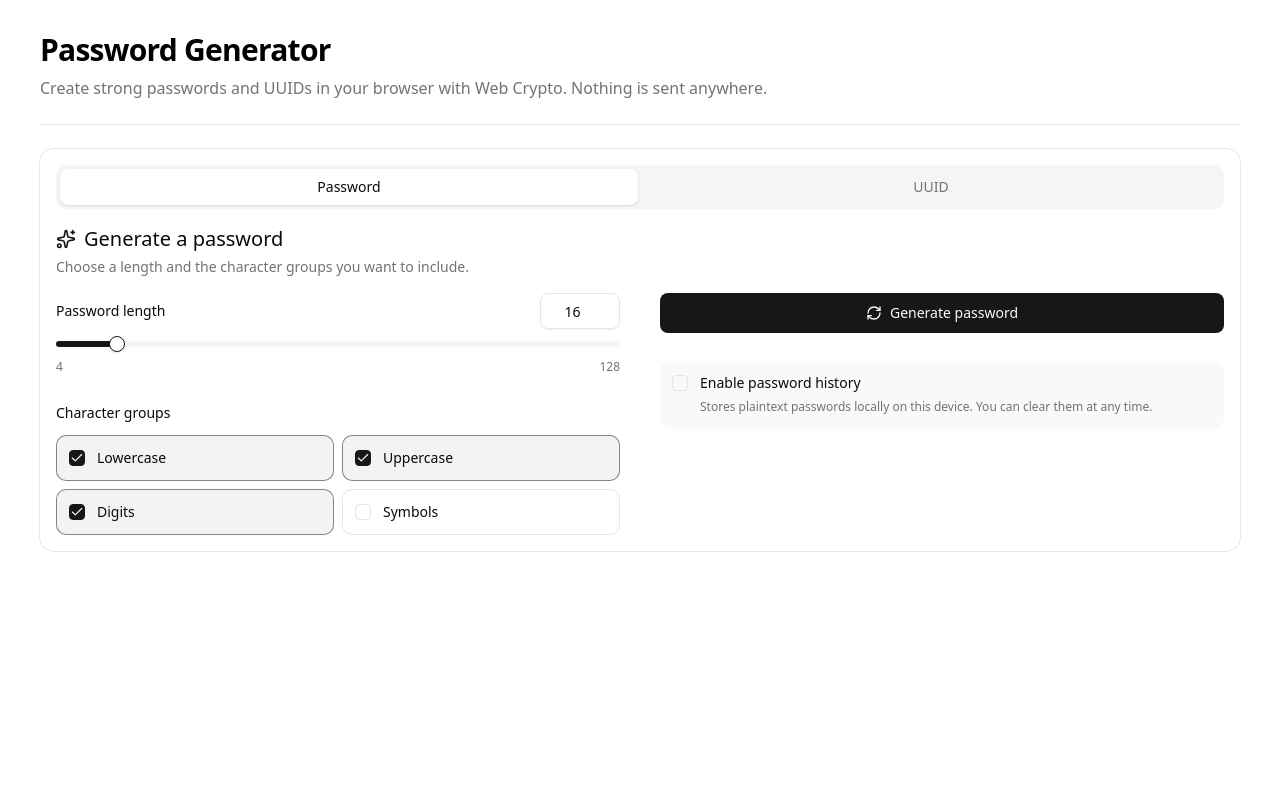
it: PasswordGeneratorScaffold › shows a validation message for an invalid UUID batch quantity
The image size is (1280, 800).
Click the tab "UUID" at (931, 187), box [642,169,1220,205]
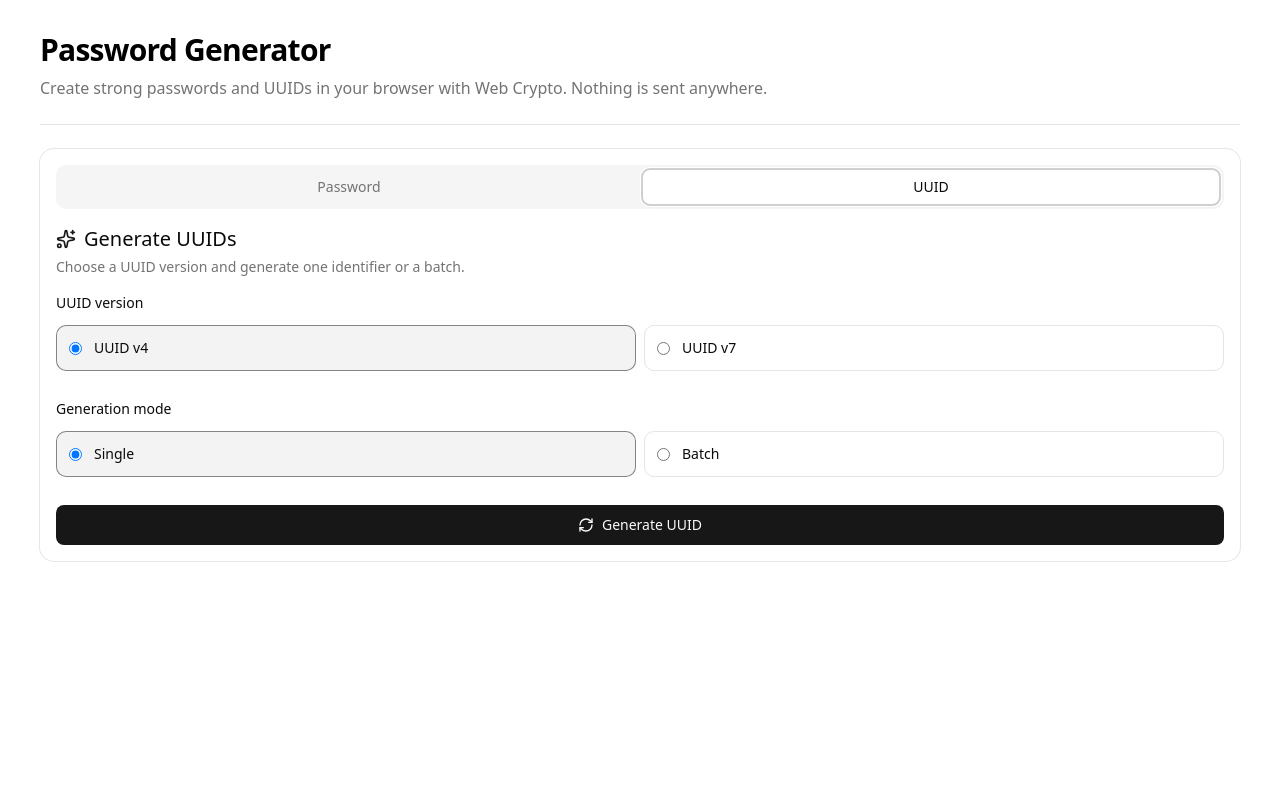
Click the radio button labelled "Batch" at (664, 454), box [657,448,670,460]
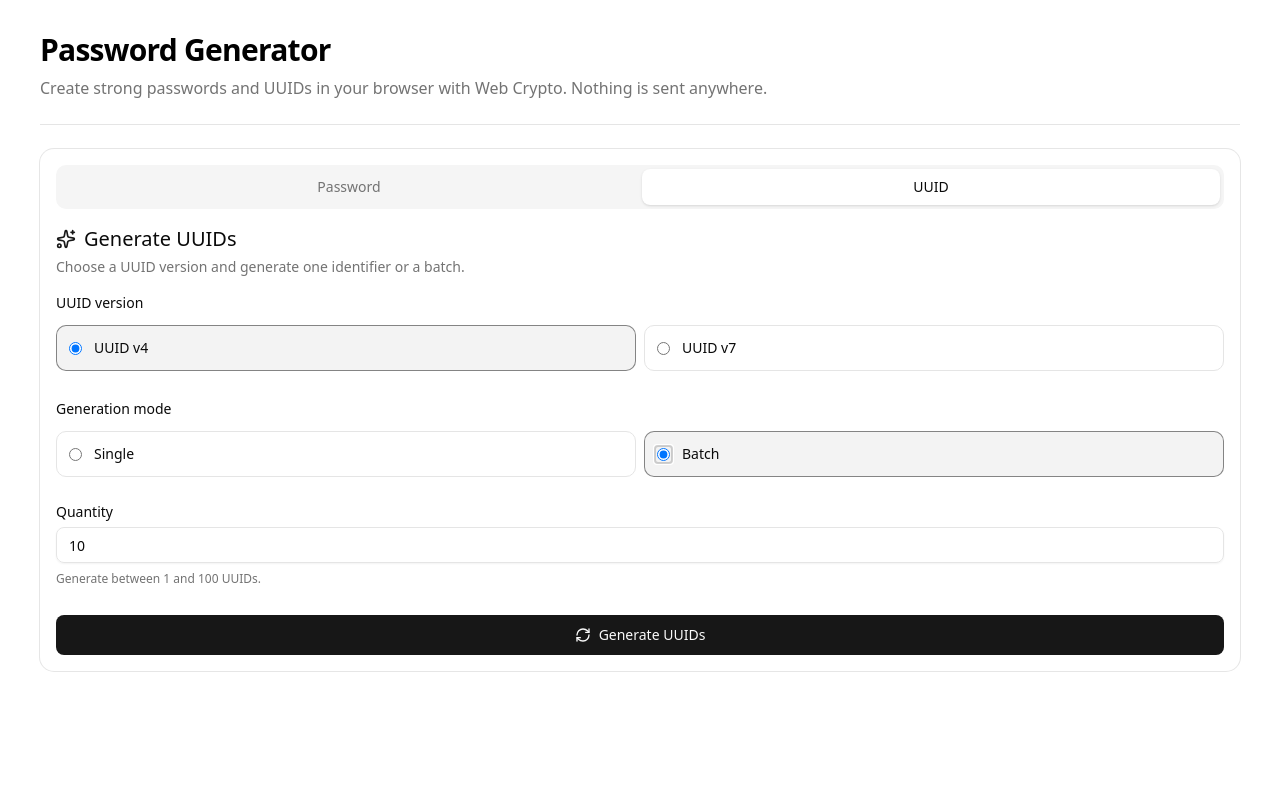
Clear the number field named "UUID quantity" at (640, 545), box [56,527,1224,563]
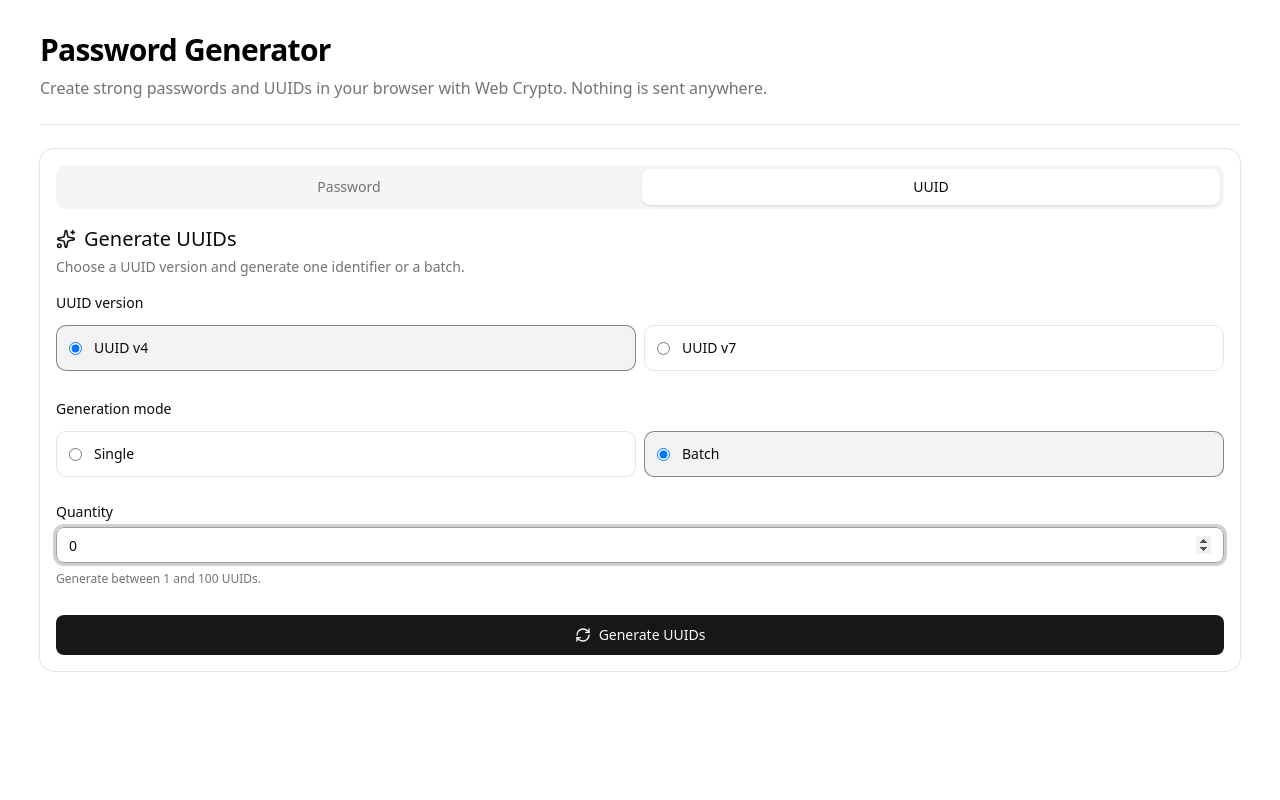
Click the button "Generate UUIDs" at (640, 635), box [56,615,1224,655]
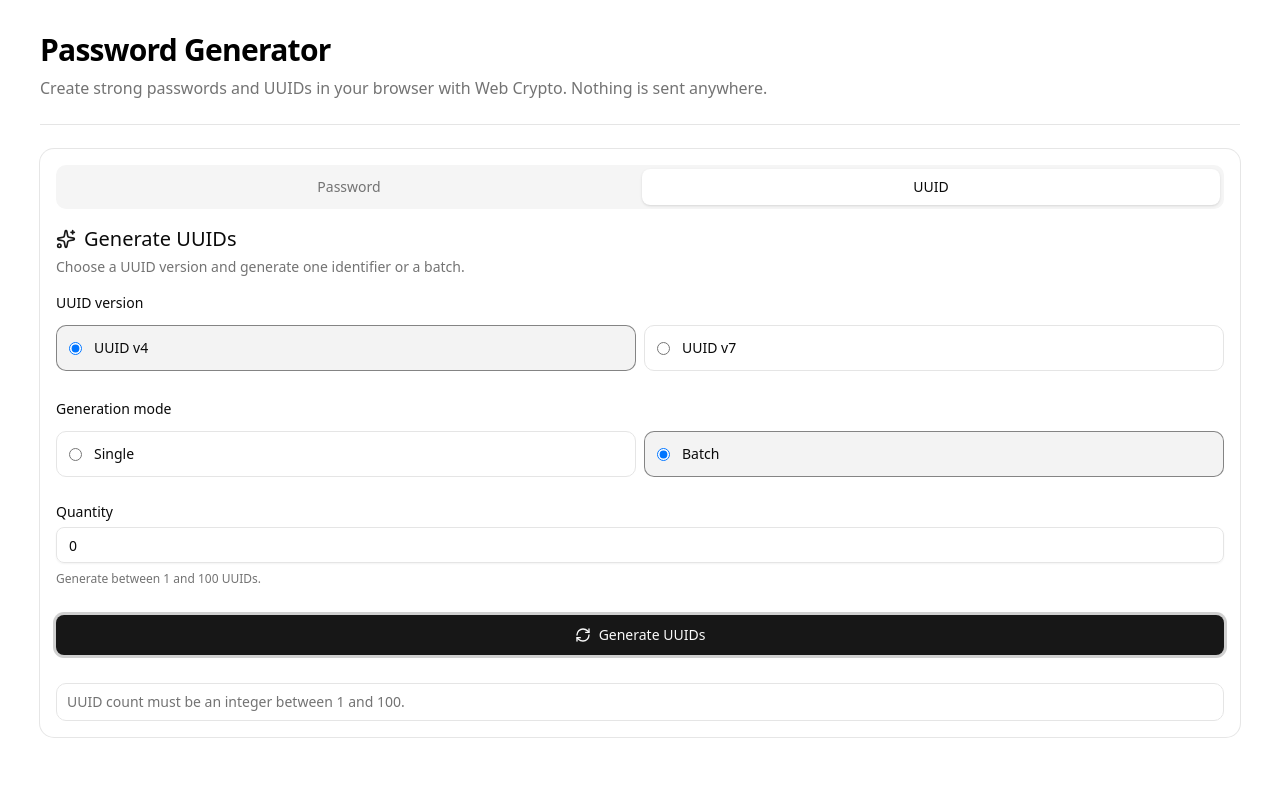
Expected: the message reads "UUID count must be an integer between 1 and 100.", [67,692,405,711]
